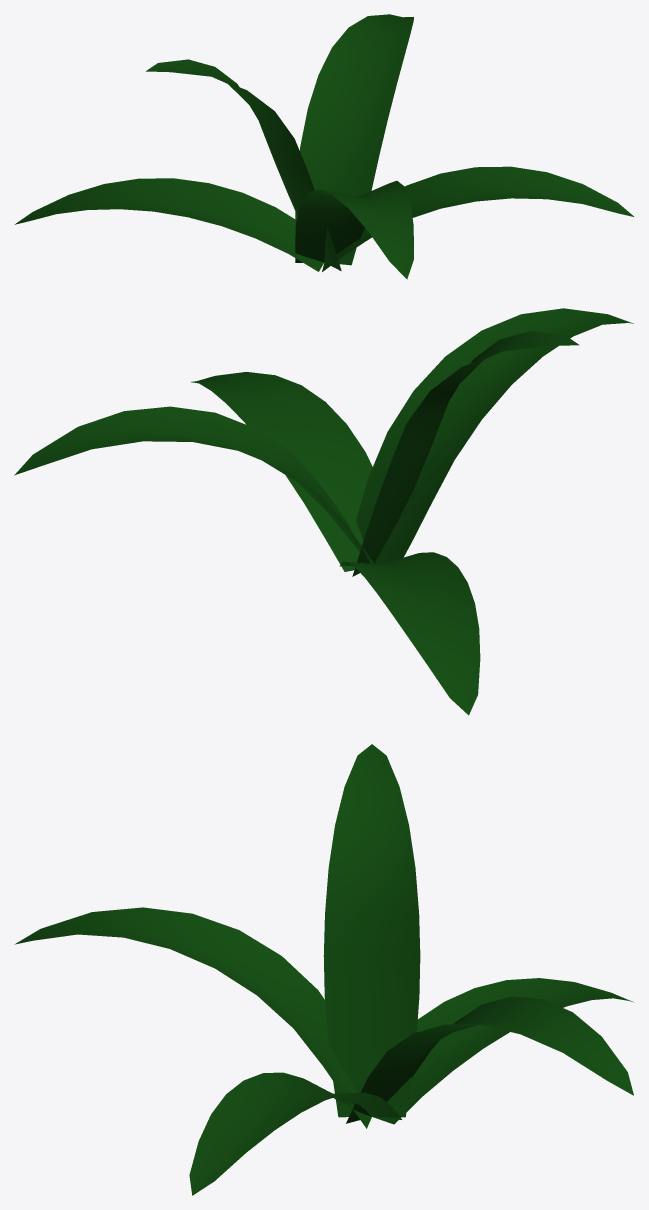
File: Plante_sauvage.FBX
The picture shows the model from 3 angles, top to bottom: view 1: azimuth 30°, elevation 25°; view 2: azimuth 150°, elevation 25°; view 3: azimuth 270°, elevation 25°; orthographic projection. The views are drawn at different scales.
Parts seen in each view (by area): view 1: Plante_Sauvage; view 2: Plante_Sauvage; view 3: Plante_Sauvage.
Boxes of the visible parts, x1,y1,x2,y2 form: Plante_Sauvage: [14, 14, 633, 279]; Plante_Sauvage: [14, 308, 633, 715]; Plante_Sauvage: [14, 744, 633, 1195].
Bounding box in the file's own units: 351 × 184 × 380.
